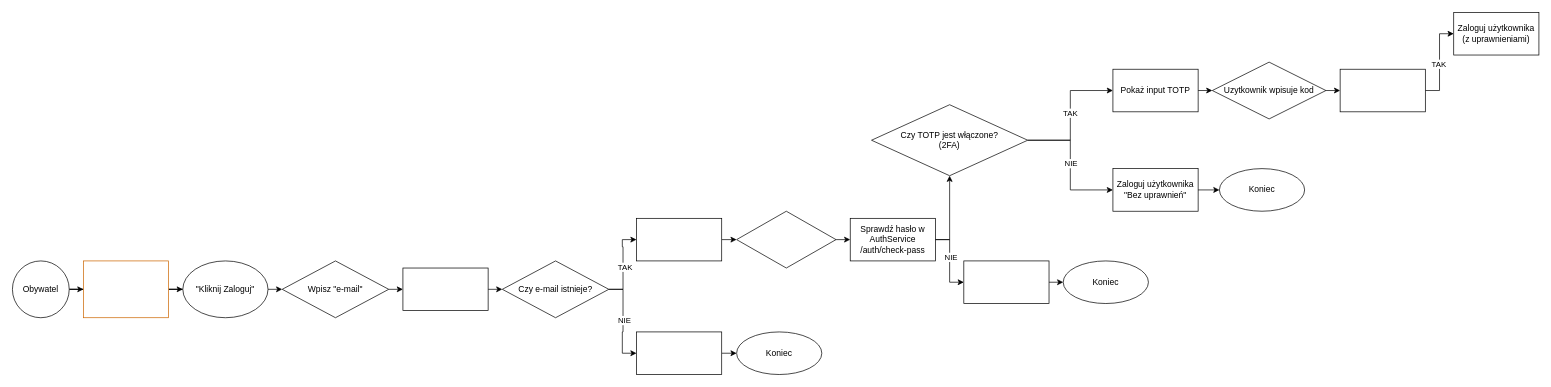
Some shapes in this 1551 by 387 pixel diagram are drawn without their labels. The centre of each missing label's shape, as x and y in pixels:
Pokaz INPUT hasła: point (679, 239)
Pokaż błąd: point (1006, 282)
Pokaż błąd "Dane niepoprawne": point (679, 353)
Portal Next.js (frontend): point (126, 289)
Sprawdź e-mail w AuthService /auth/check-email: point (445, 289)
Sprawdź kod TOTP: point (1382, 90)
Wpisz hasło: point (786, 239)
